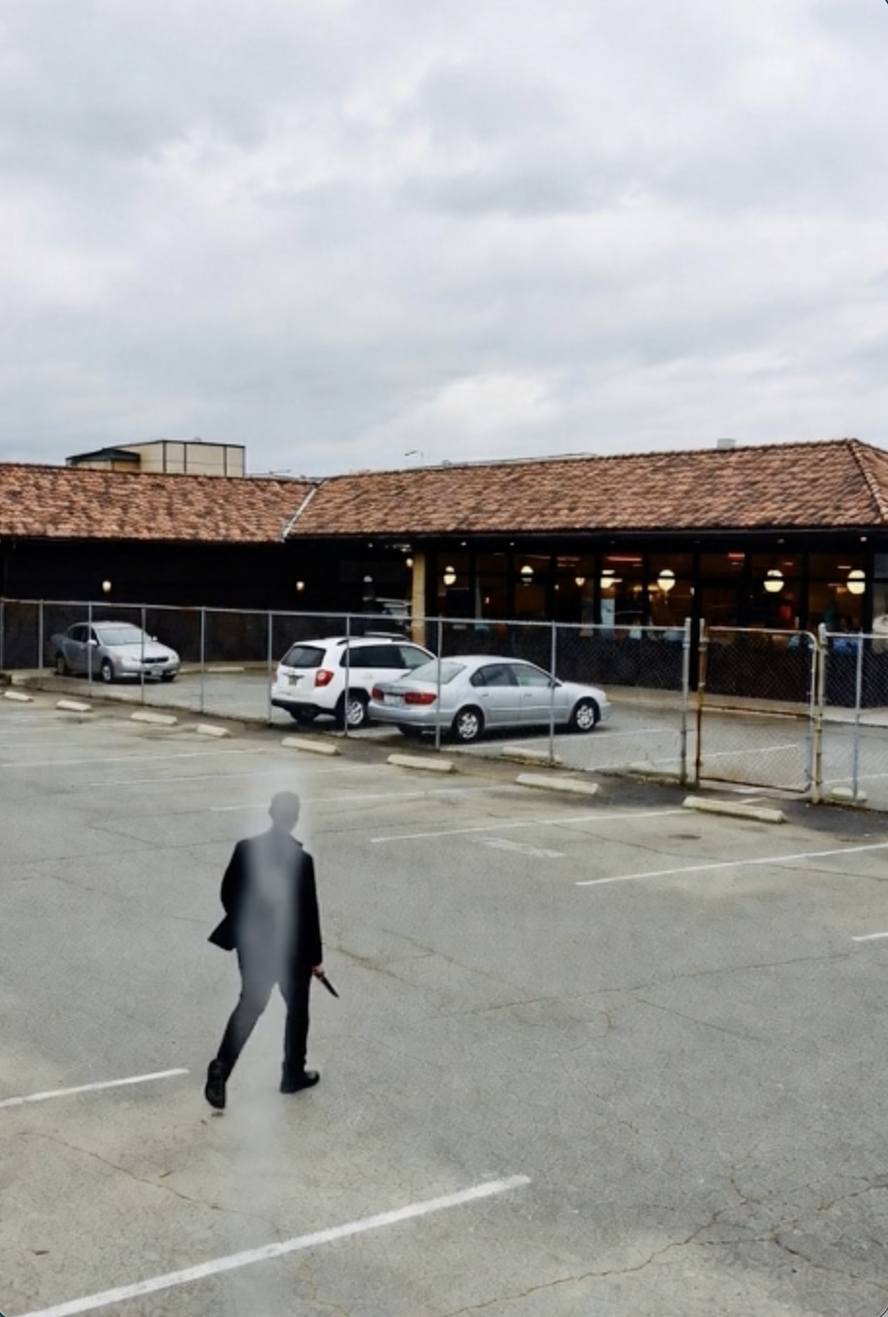knife: (314, 953, 357, 1007)
person: (205, 785, 312, 1084)
